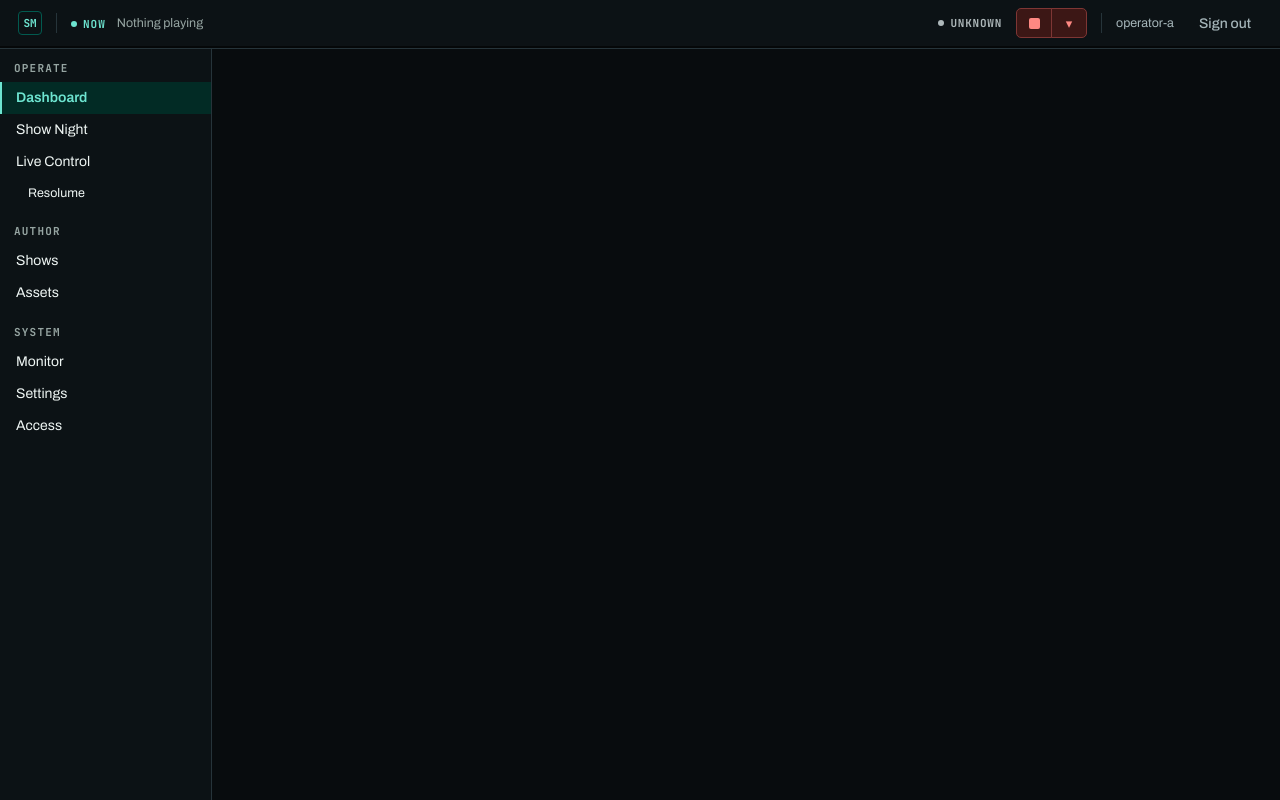
Test: app shell › the emergency stop on the bar › posts nothing when the level 1 confirm is cancelled
What coordinates should you click on to do the following:
click the button named "Emergency stop"
I would click on:
 (1034, 23)
Its box is [1016, 8, 1052, 38].
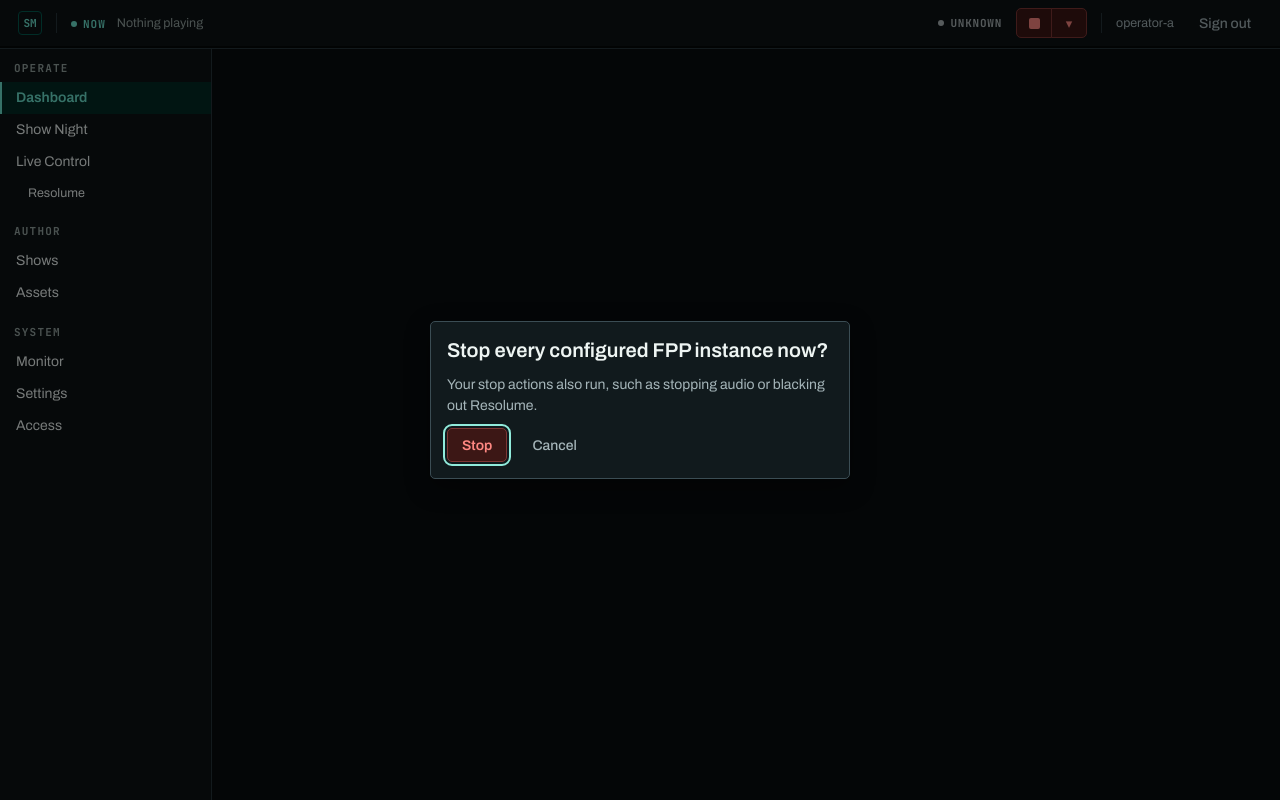
What coordinates should you click on to do the following:
click the button "Cancel"
I would click on:
 (555, 445)
Its box is [519, 428, 590, 462].
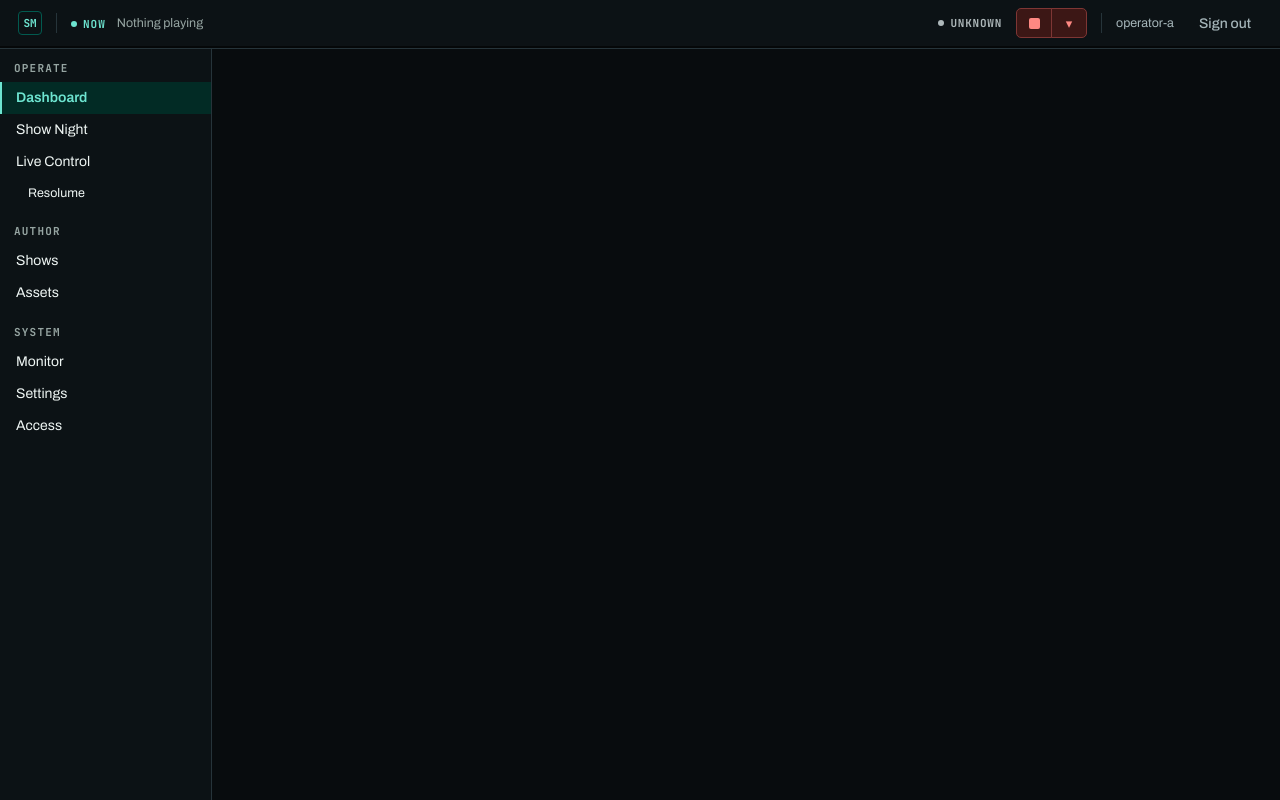
Expected: the dialog is gone
